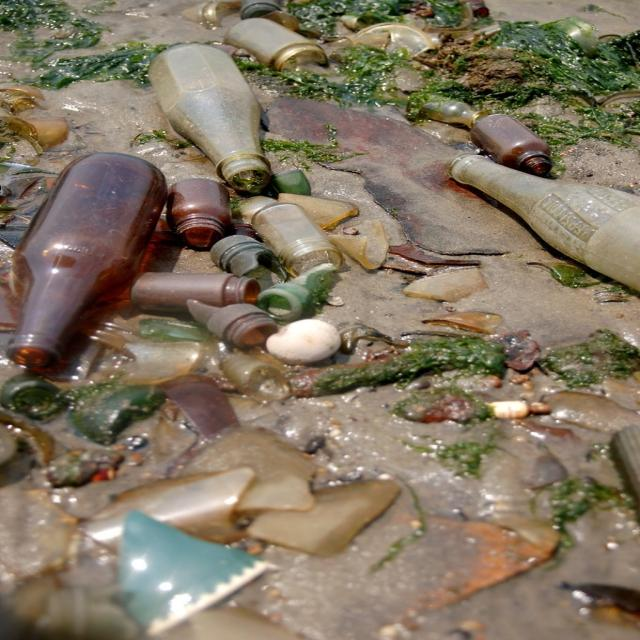Glass: (7, 3, 640, 640)
